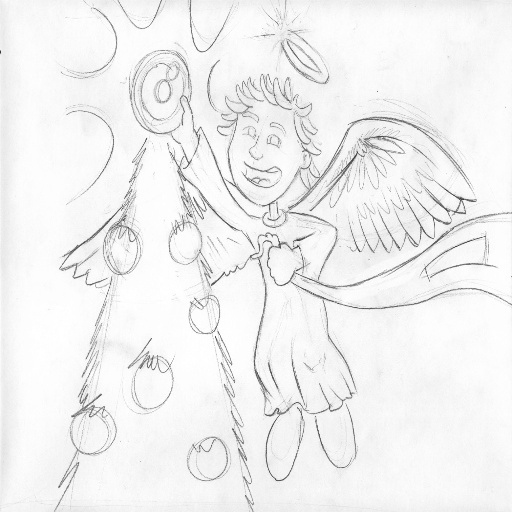hand: (266, 239, 296, 286), (169, 92, 193, 141)
